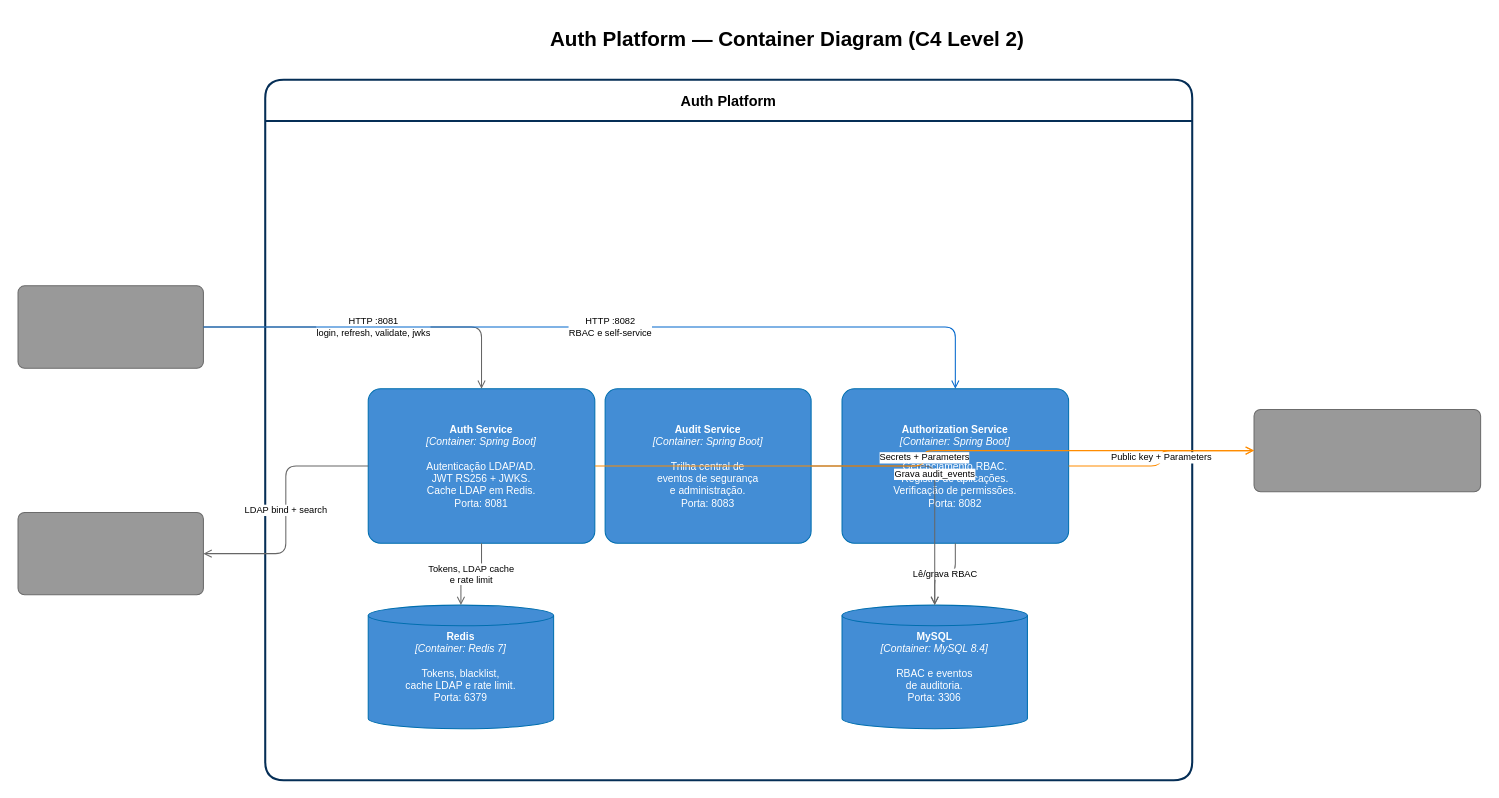
This 1499x798 diagram has some shape labels left out. The shapes that lost their labels are listed below. From the top down, each one's centre as x and y in pixels, then its label:
At point (110, 326): "Aplicação Cliente [External System]".
At point (1367, 450): "AWS (SSM + Secrets Manager) [External System]".
At point (110, 553): "LDAP / Active Directory [External System]".
